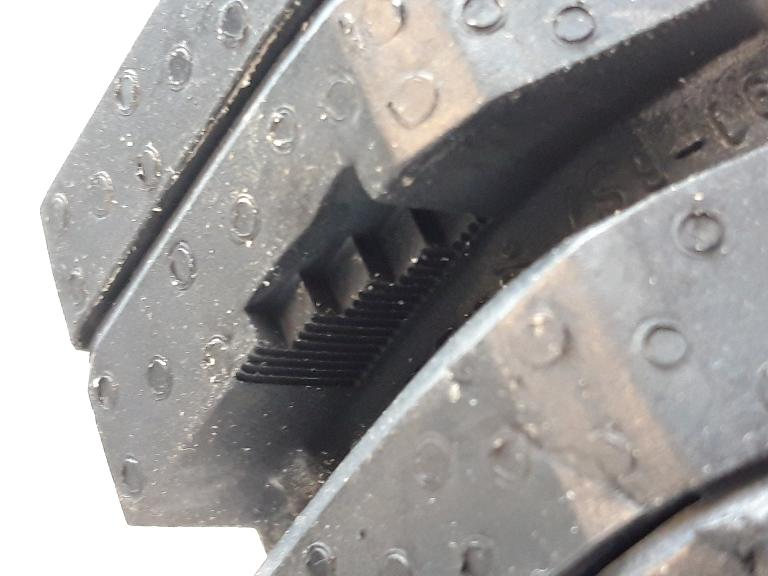temoin:100: (223, 153, 494, 402)
